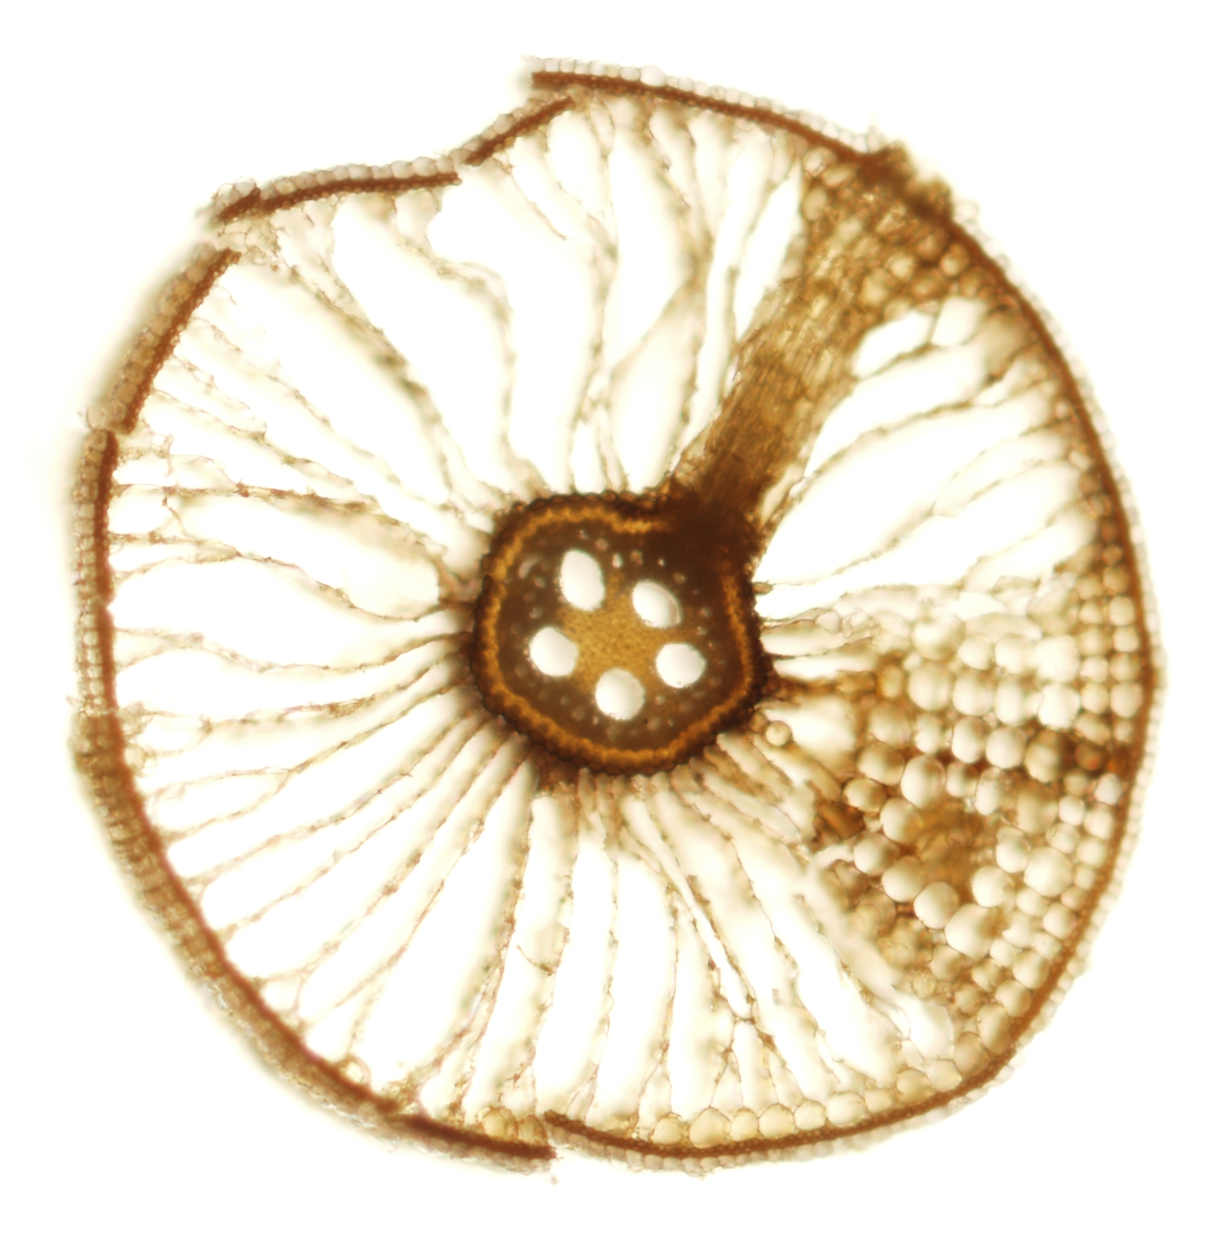lm: (559, 549, 606, 612), (596, 668, 645, 721), (528, 626, 578, 676), (632, 579, 681, 629), (656, 643, 707, 688)
